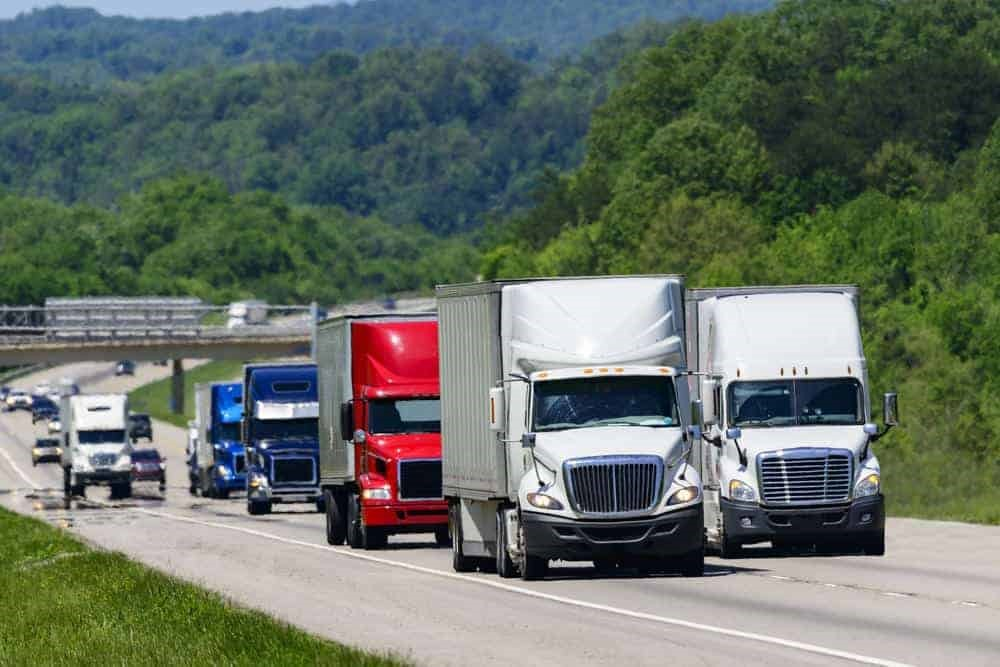HeavyVehicle: (435, 278, 708, 568)
